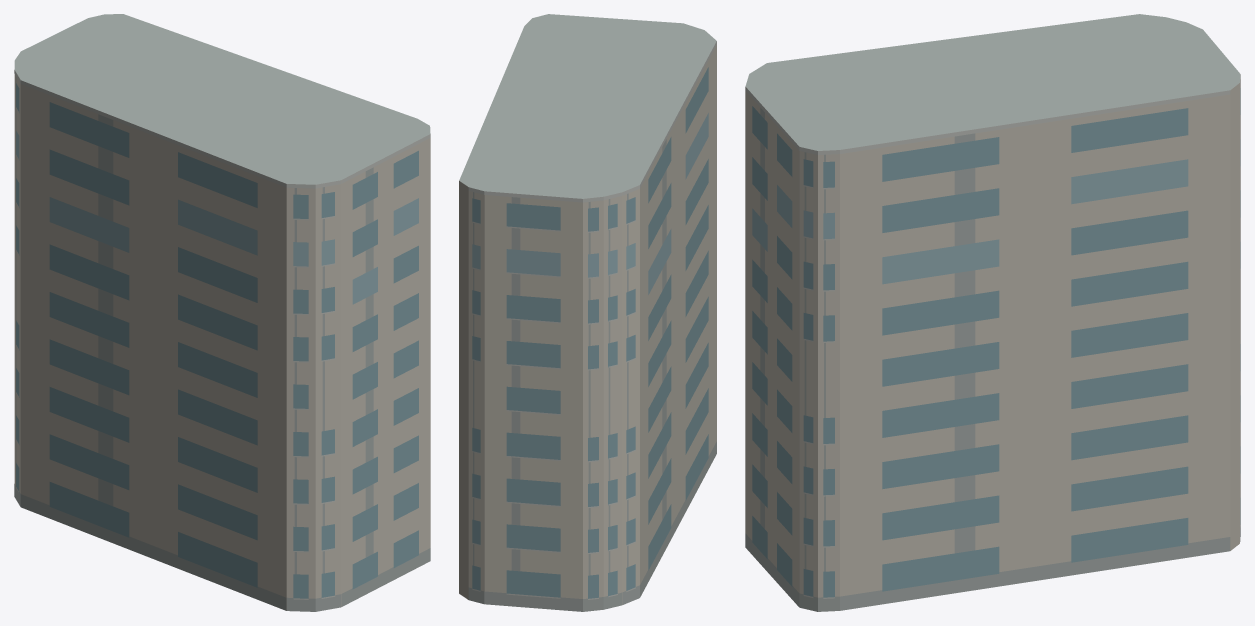
The model's file is survey-upis-32763992.glb.
The picture shows the model from 3 angles, left to right: view 1: azimuth 30°, elevation 25°; view 2: azimuth 150°, elevation 25°; view 3: azimuth 270°, elevation 25°; orthographic projection. The views are drawn at different scales.
Parts seen in each view (by area): view 1: survey-upis-32763992.tmp; view 2: survey-upis-32763992.tmp; view 3: survey-upis-32763992.tmp.
Part boxes in pixels (box(x1,y1,x2,y2)): survey-upis-32763992.tmp: box(14, 14, 430, 611); survey-upis-32763992.tmp: box(459, 14, 716, 611); survey-upis-32763992.tmp: box(745, 14, 1240, 611).
Bounding box in the file's own units: 17.51 × 27.45 × 26.74.
